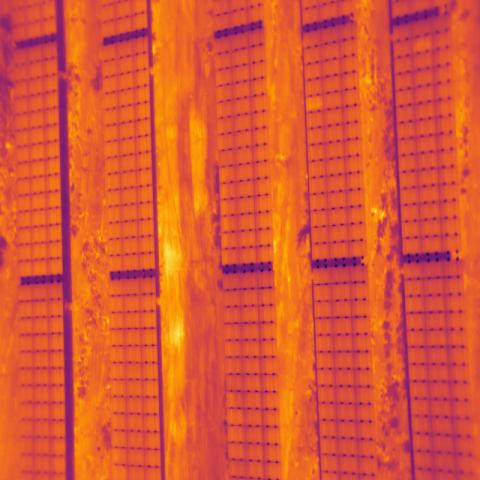fault: (306, 95, 322, 113)
